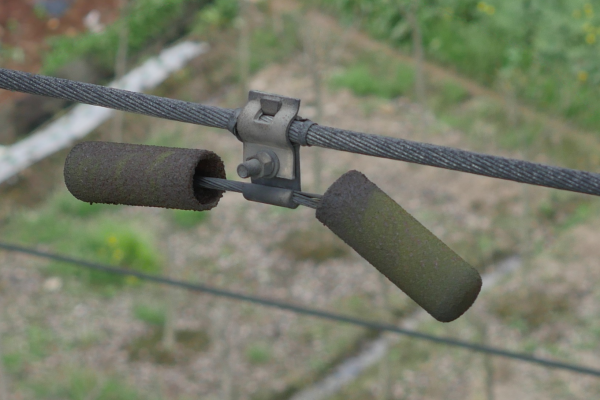damper: (54, 80, 485, 329)
